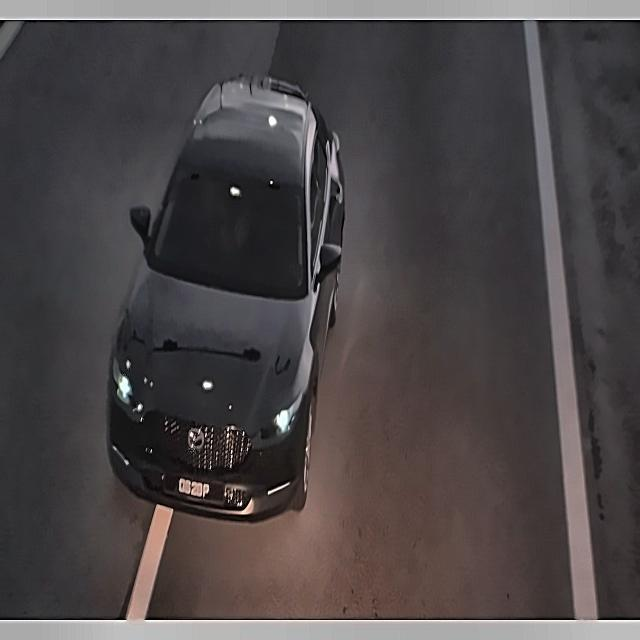car: (160, 462, 231, 511)
